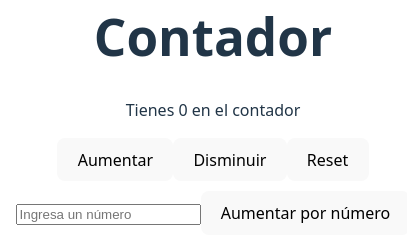
Test: Counter component › increments counter when "Aumentar" button is clicked
Click the button "Aumentar" at coordinates (115, 160), box [58, 138, 173, 182]
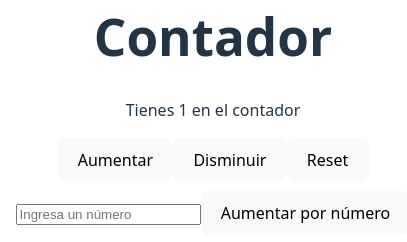
Check: the text "Tienes 1 en el contador" is shown, box [126, 99, 300, 121]
